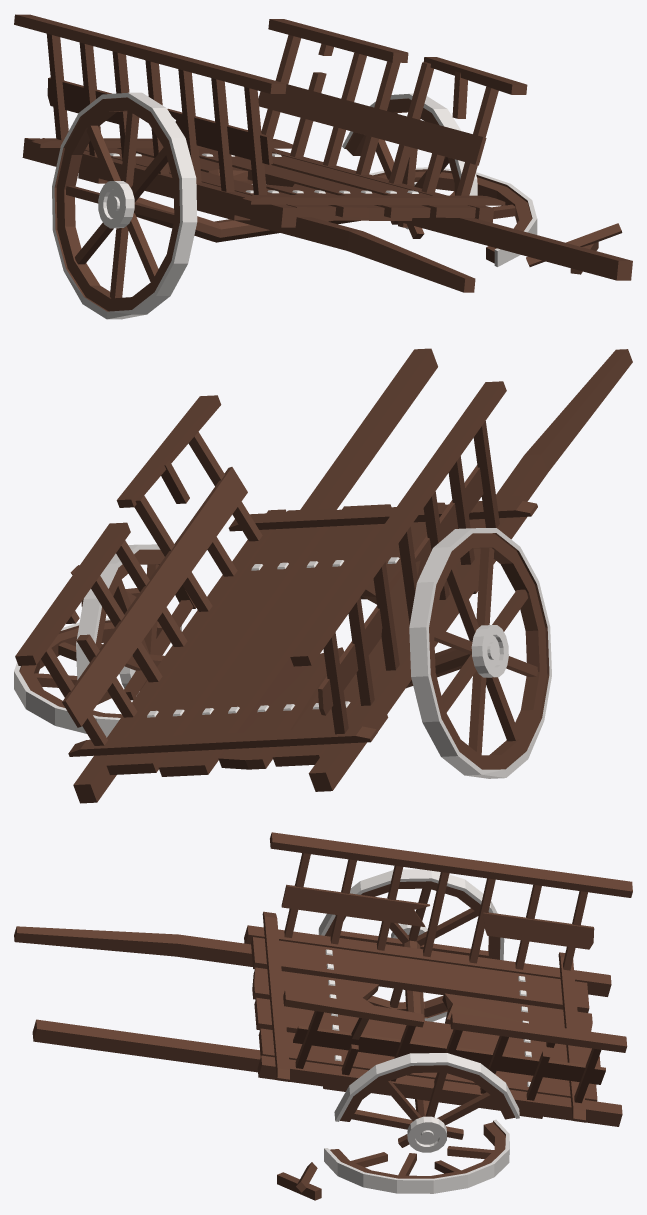
Rendered from Cart_Broken.fbx.
3 renders of one model, top to bottom at view 1: azimuth 30°, elevation 25°; view 2: azimuth 150°, elevation 25°; view 3: azimuth 270°, elevation 25°, orthographic. The views are drawn at different scales.
Visible parts, largest first — view 1: Cart_Broken; view 2: Cart_Broken; view 3: Cart_Broken.
Part boxes in pixels (x1=…): Cart_Broken: x1=14, y1=14, x2=632, y2=319; Cart_Broken: x1=14, y1=348, x2=632, y2=803; Cart_Broken: x1=14, y1=832, x2=632, y2=1200.
Size of the model in its own units: 2.98 by 1.66 by 4.12.
